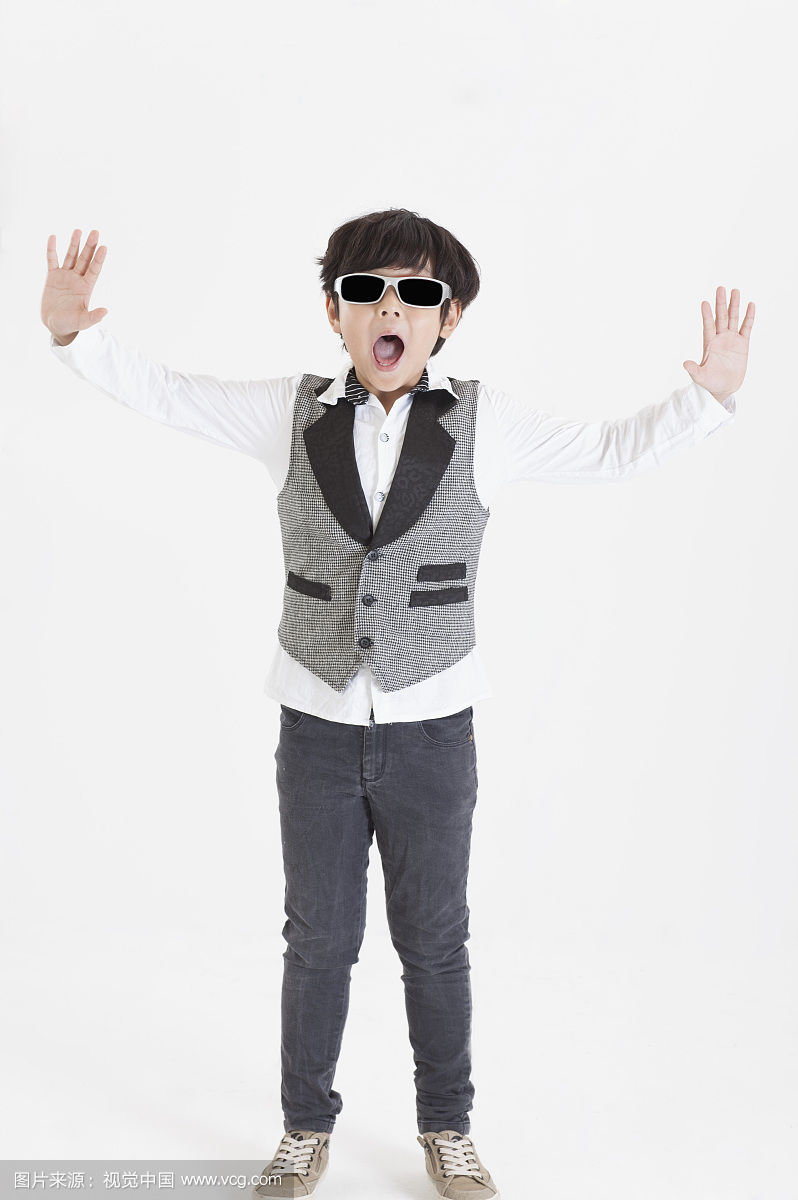handsup: (34, 207, 760, 1200)
